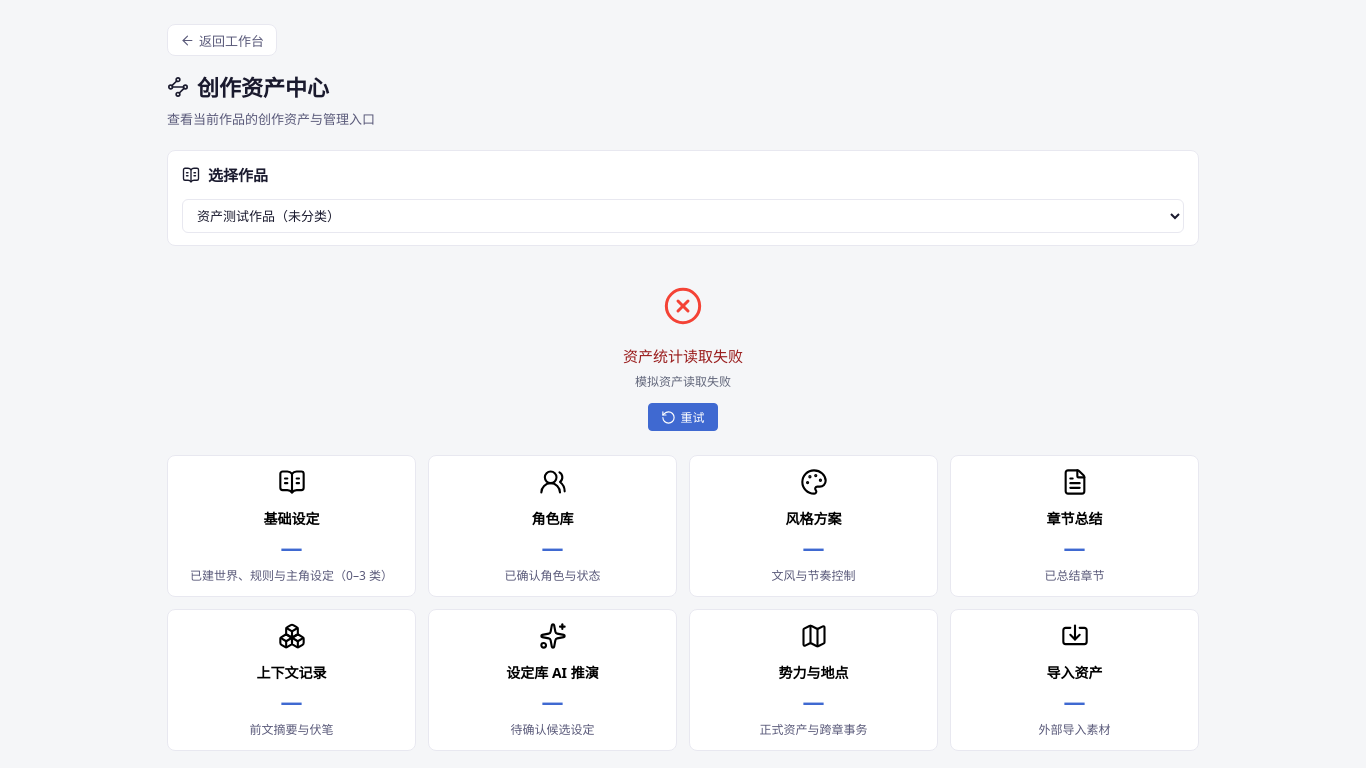
Test: project-scoped asset counts › shows unavailable counts as a dash instead of zero, and retries the current project
Expected: the text "资产统计读取失败" is shown, [623,346,743,366]
Expected: the 2nd text "—" is shown, [542,532,564,562]
What coordinates should you click on to do the following:
click the button "重试"
I would click on:
 (683, 417)
Its box is [648,403,718,431].
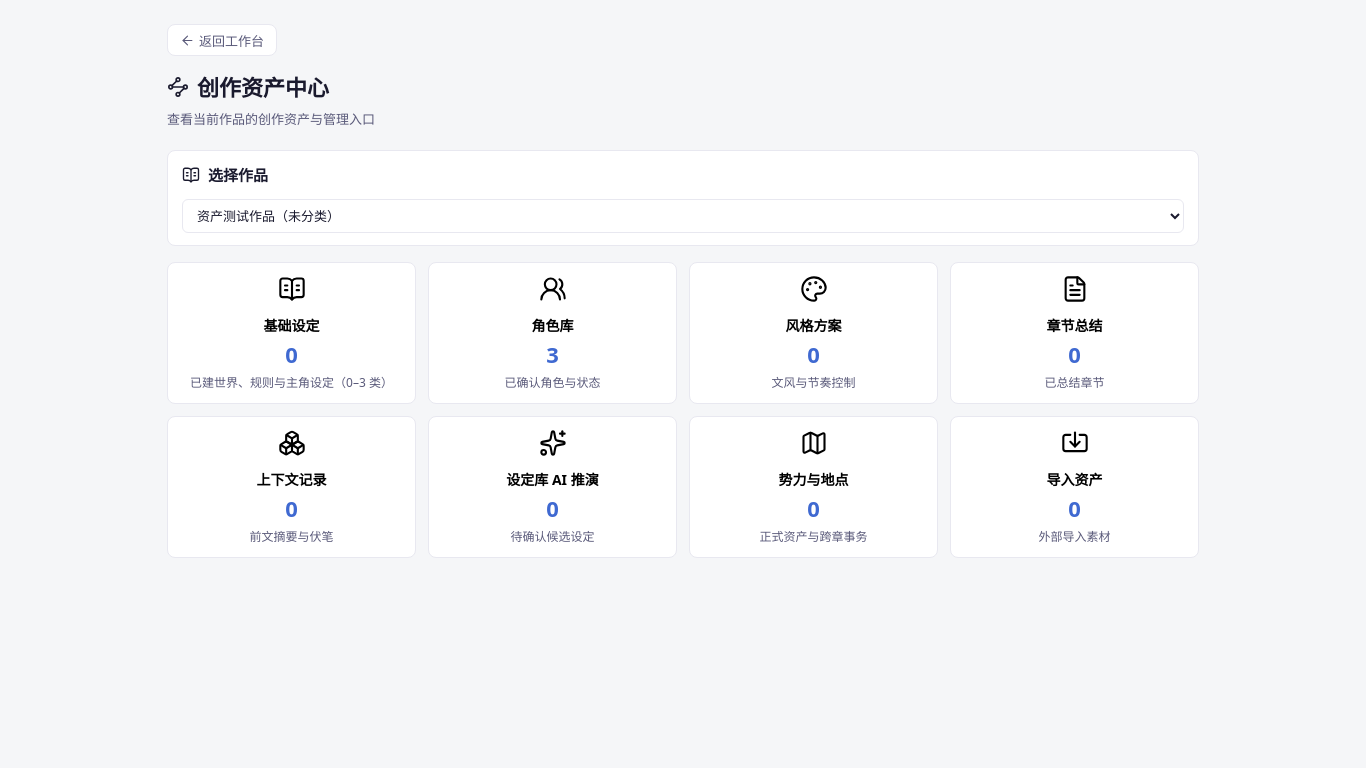
Result: the text "3" is shown at [546,339,559,369]
Result: the text "资产统计读取失败" is gone
